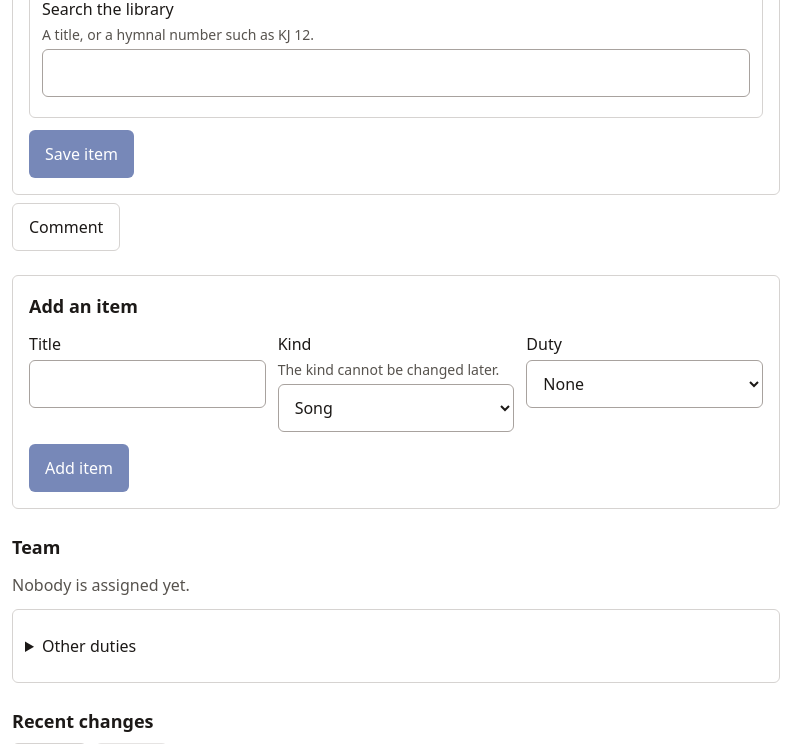
Scenario: structure › adds an item at the end
The image size is (797, 744).
(page scrolled)
Type "Doa" into the field labelled "Title".
click(147, 384); type("Doa")  # box 29,360 -> 266,408
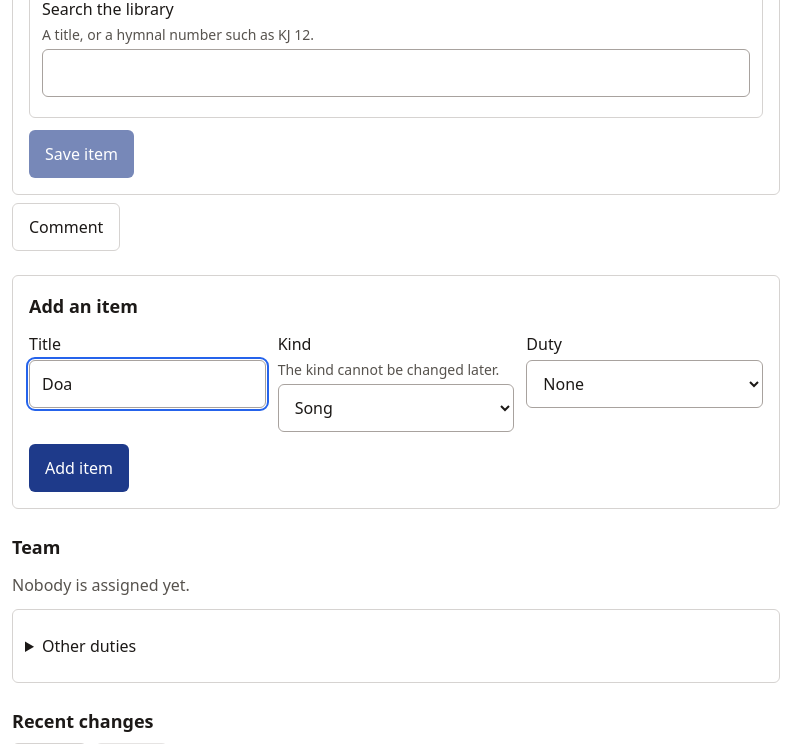
Select "Prayer" in the dropdown labelled "Kind" at (396, 408), box 278,384 -> 514,432
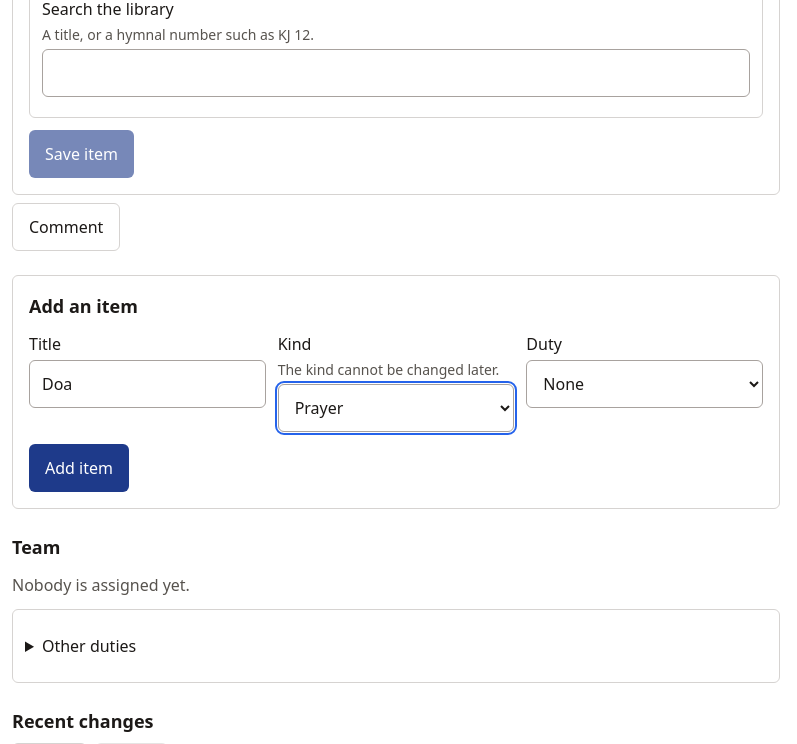
Click the button "Add item".
click(79, 468)  # box 29,444 -> 129,492
(page scrolled)
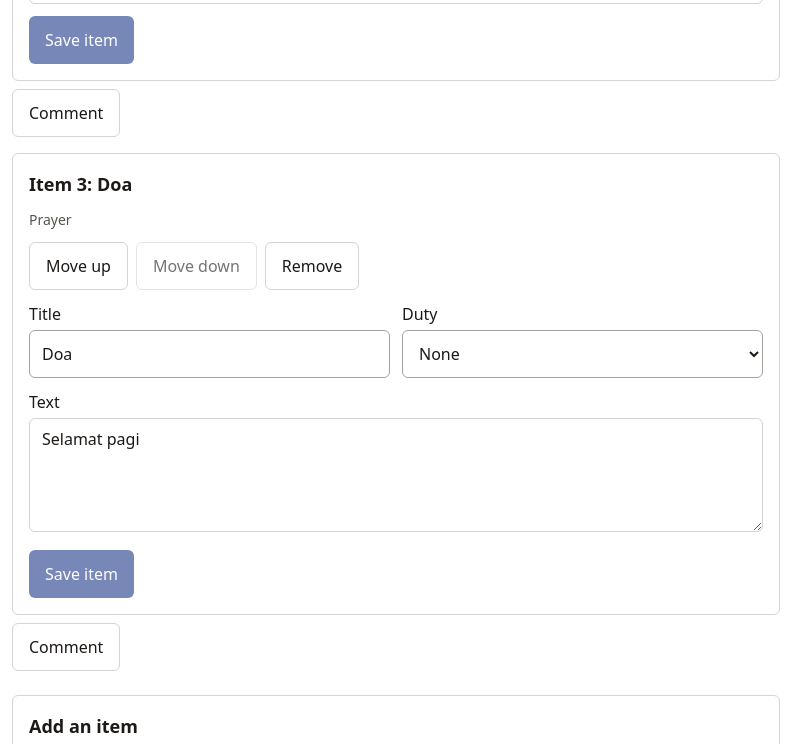
Expected: the form "Item 3: Doa" is shown, 12,153 -> 780,615
